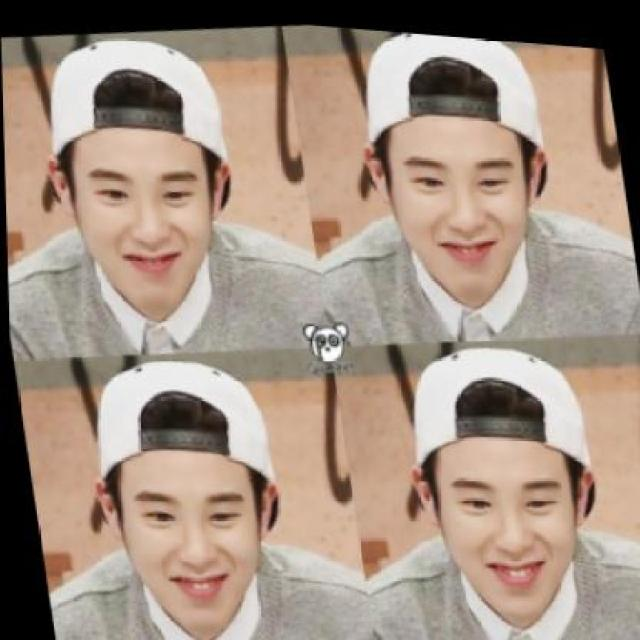hat: (28, 16, 230, 198), (74, 340, 281, 517), (391, 317, 592, 488), (349, 22, 546, 170)
